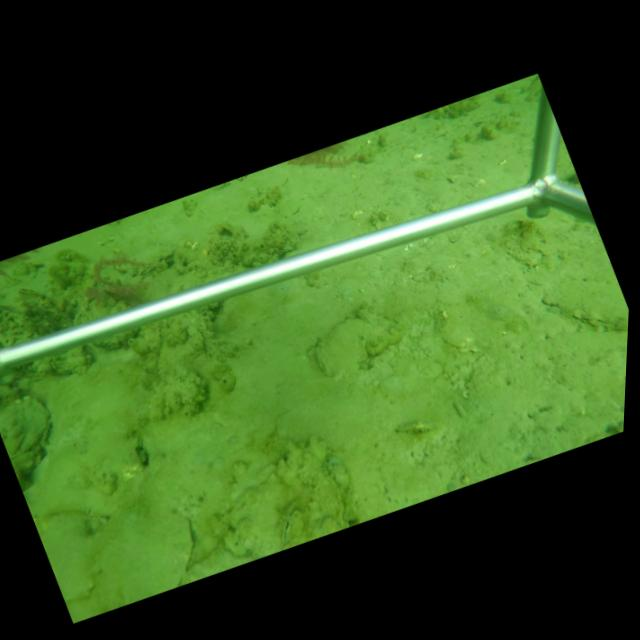Oyster-Closed: (540, 277, 629, 333), (0, 396, 53, 486), (283, 500, 306, 545)
Oyster-Indeterminate: (89, 500, 196, 613), (313, 317, 406, 381)
